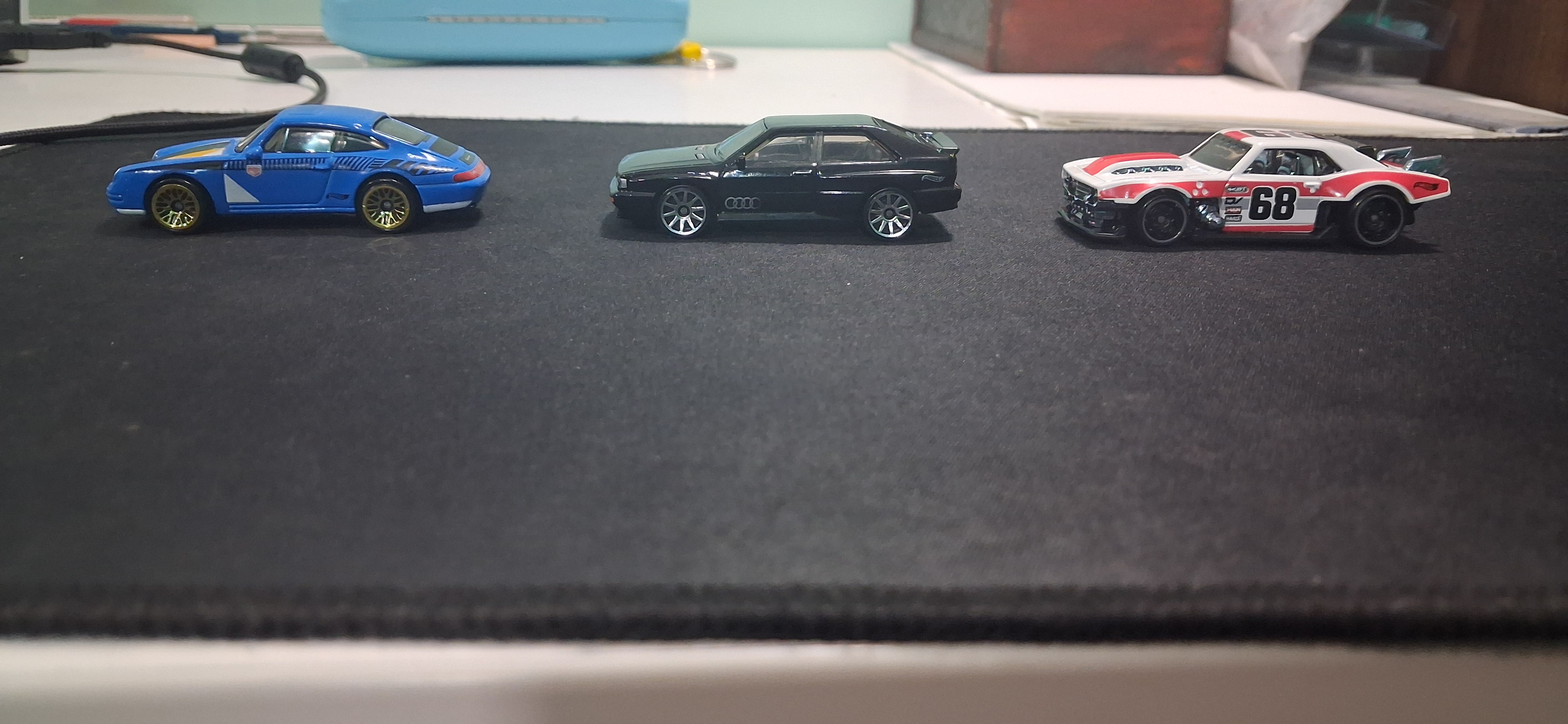Audi_Quattro: (539, 92, 981, 280)
Camaro: (1023, 106, 1468, 296)
Porsche_Carrera: (50, 75, 510, 257)
